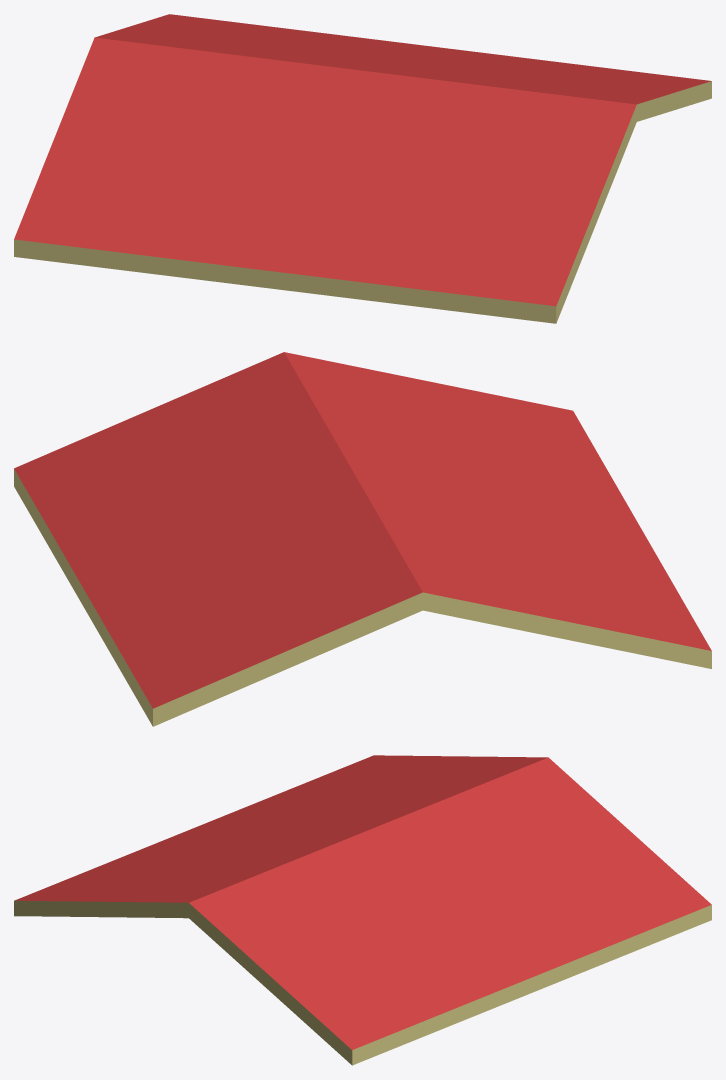
3 views of the same model, one above another, from view 1: azimuth 30°, elevation 25°; view 2: azimuth 150°, elevation 25°; view 3: azimuth 270°, elevation 25° (orthographic). The views are drawn at different scales.
Visible parts, largest first — view 1: group_3, group_4; view 2: group_3, group_4; view 3: group_3, group_4.
Boxes of the visible parts, x1=… form: group_3: x1=14, y1=14, x2=711, y2=306; group_4: x1=14, y1=81, x2=711, y2=323; group_3: x1=14, y1=352, x2=711, y2=708; group_4: x1=14, y1=469, x2=711, y2=726; group_3: x1=15, y1=755, x2=711, y2=1049; group_4: x1=14, y1=900, x2=711, y2=1065.
Size of the model in its own units: 4.1 by 4.1 by 0.588.
